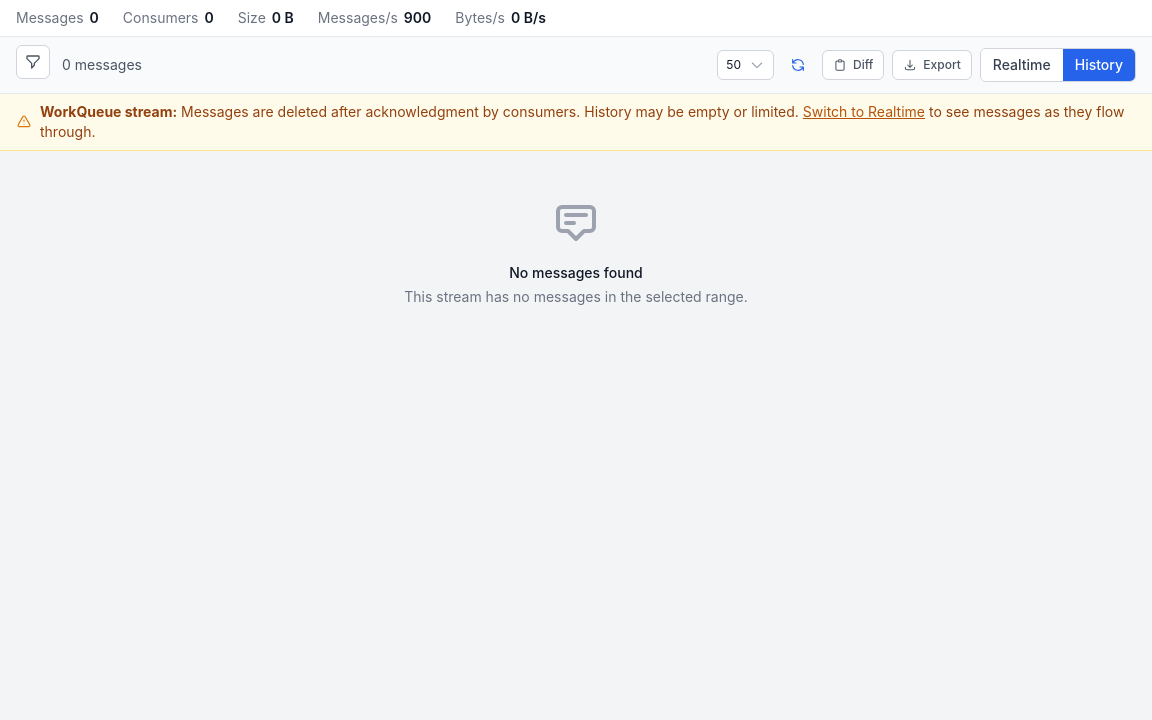
Test: UnifiedMessageList search states › says plainly that nothing matched once the whole range was searched
Step 1. Click the button named "filters" → {"x": 33, "y": 62}, box [16,45,50,79]
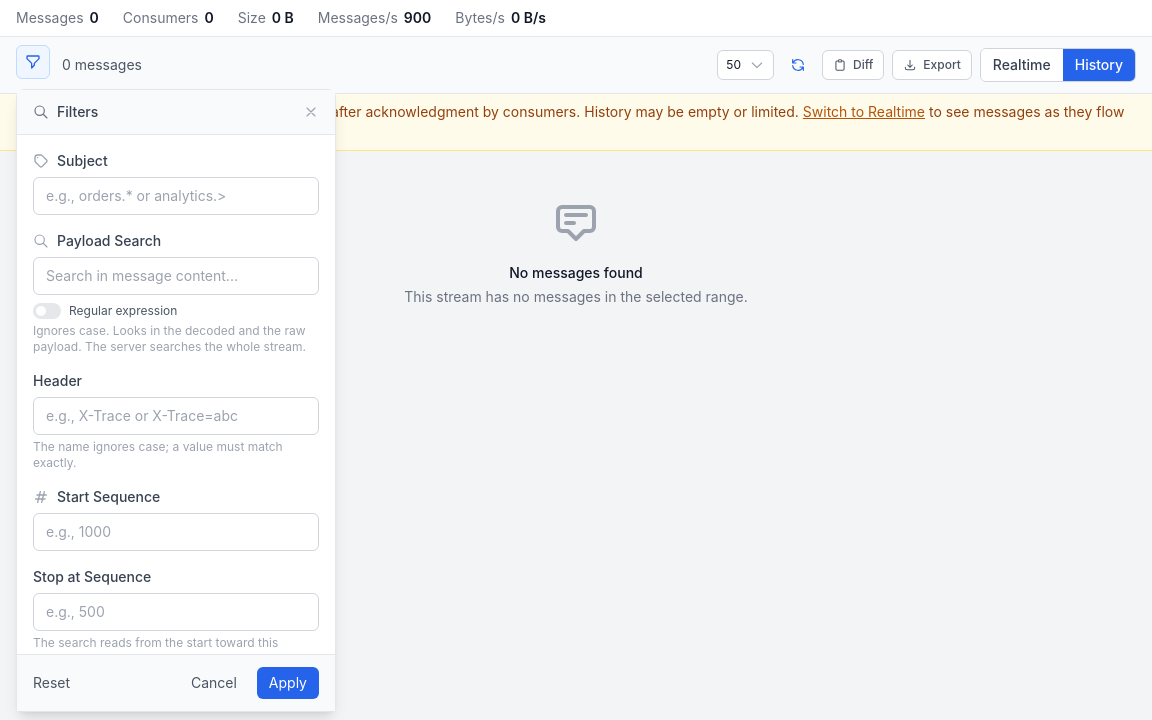
Step 2. Type "needle" into the field labelled "Payload Search" → {"x": 176, "y": 276}, box [33,257,319,295]
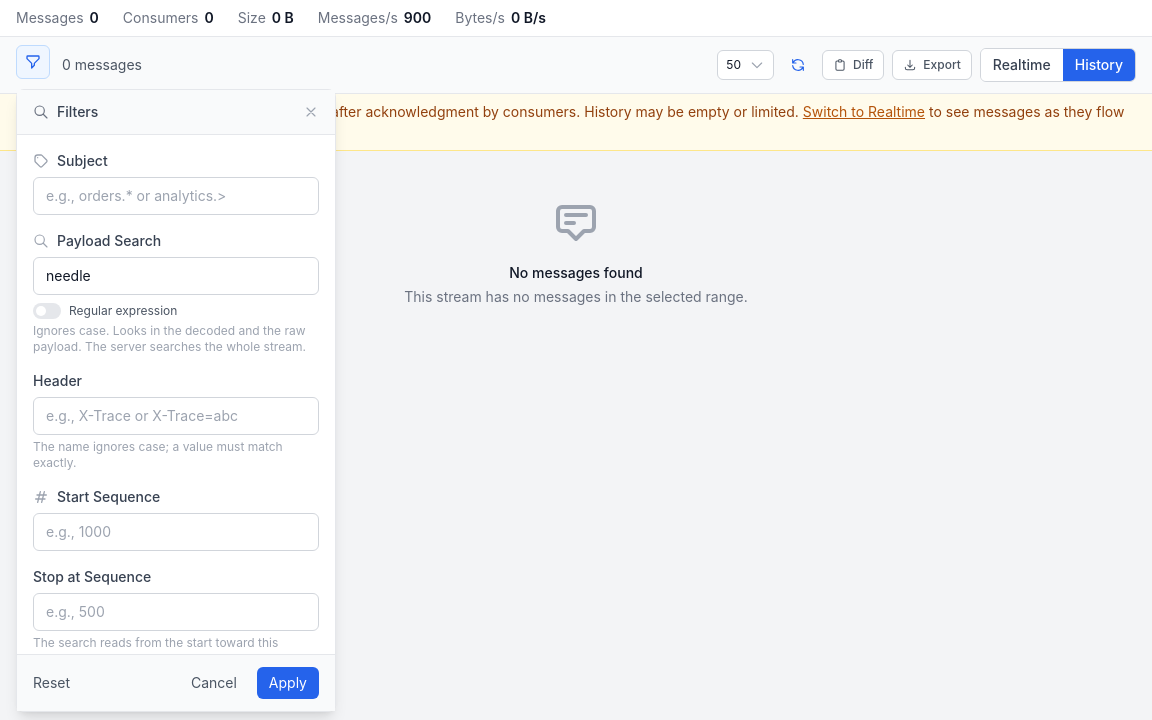
Step 3. Click the button "Apply" → {"x": 288, "y": 683}, box [257,667,319,699]
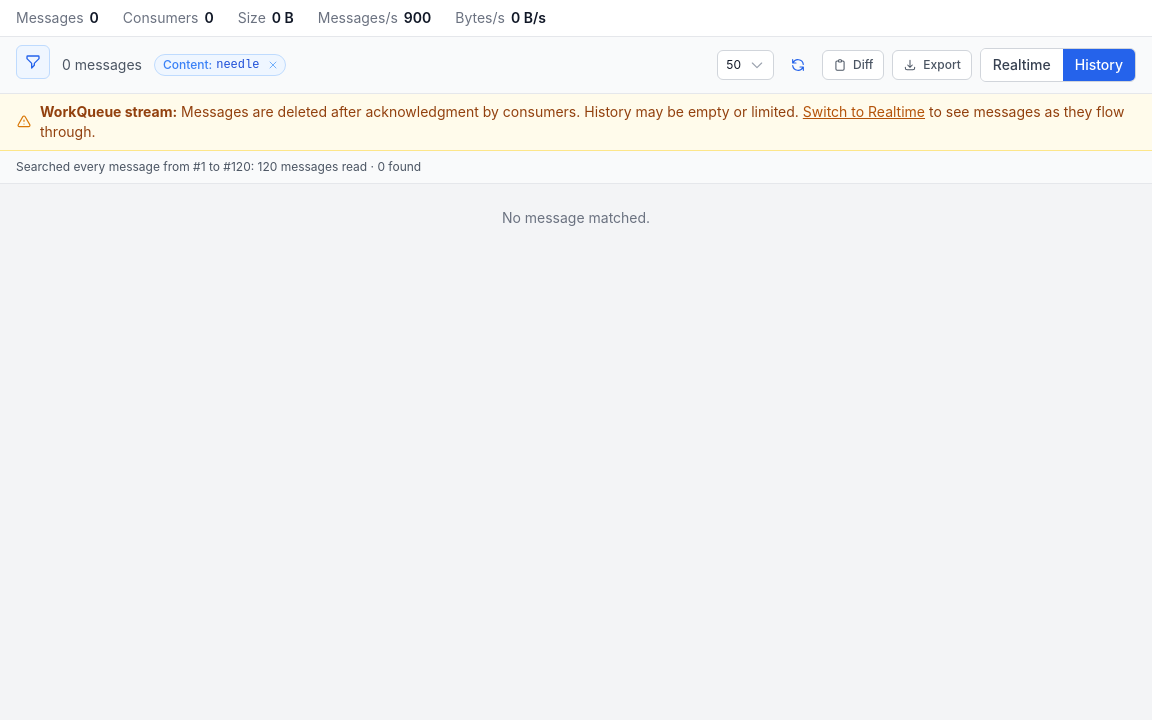
Expected: the text with test id "search-empty" reads "No message matched.", [502,209,650,226]
